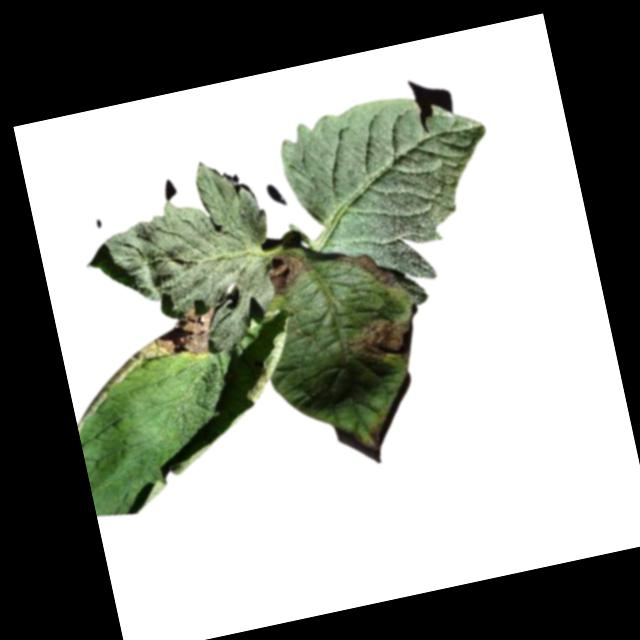Late_blight: (129, 297, 226, 370), (344, 311, 422, 370), (342, 248, 395, 296), (266, 248, 313, 298), (349, 410, 396, 453)
healthy: (272, 79, 513, 306), (70, 152, 291, 376)
